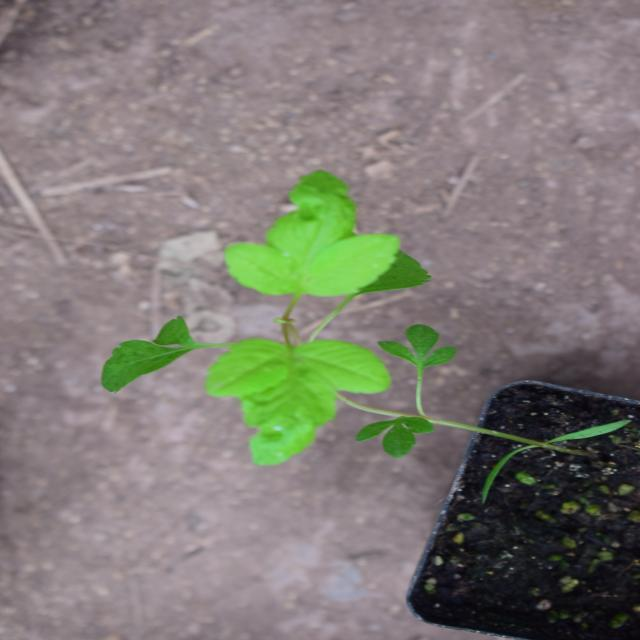Bidens pilosa: (190, 111, 463, 478)
